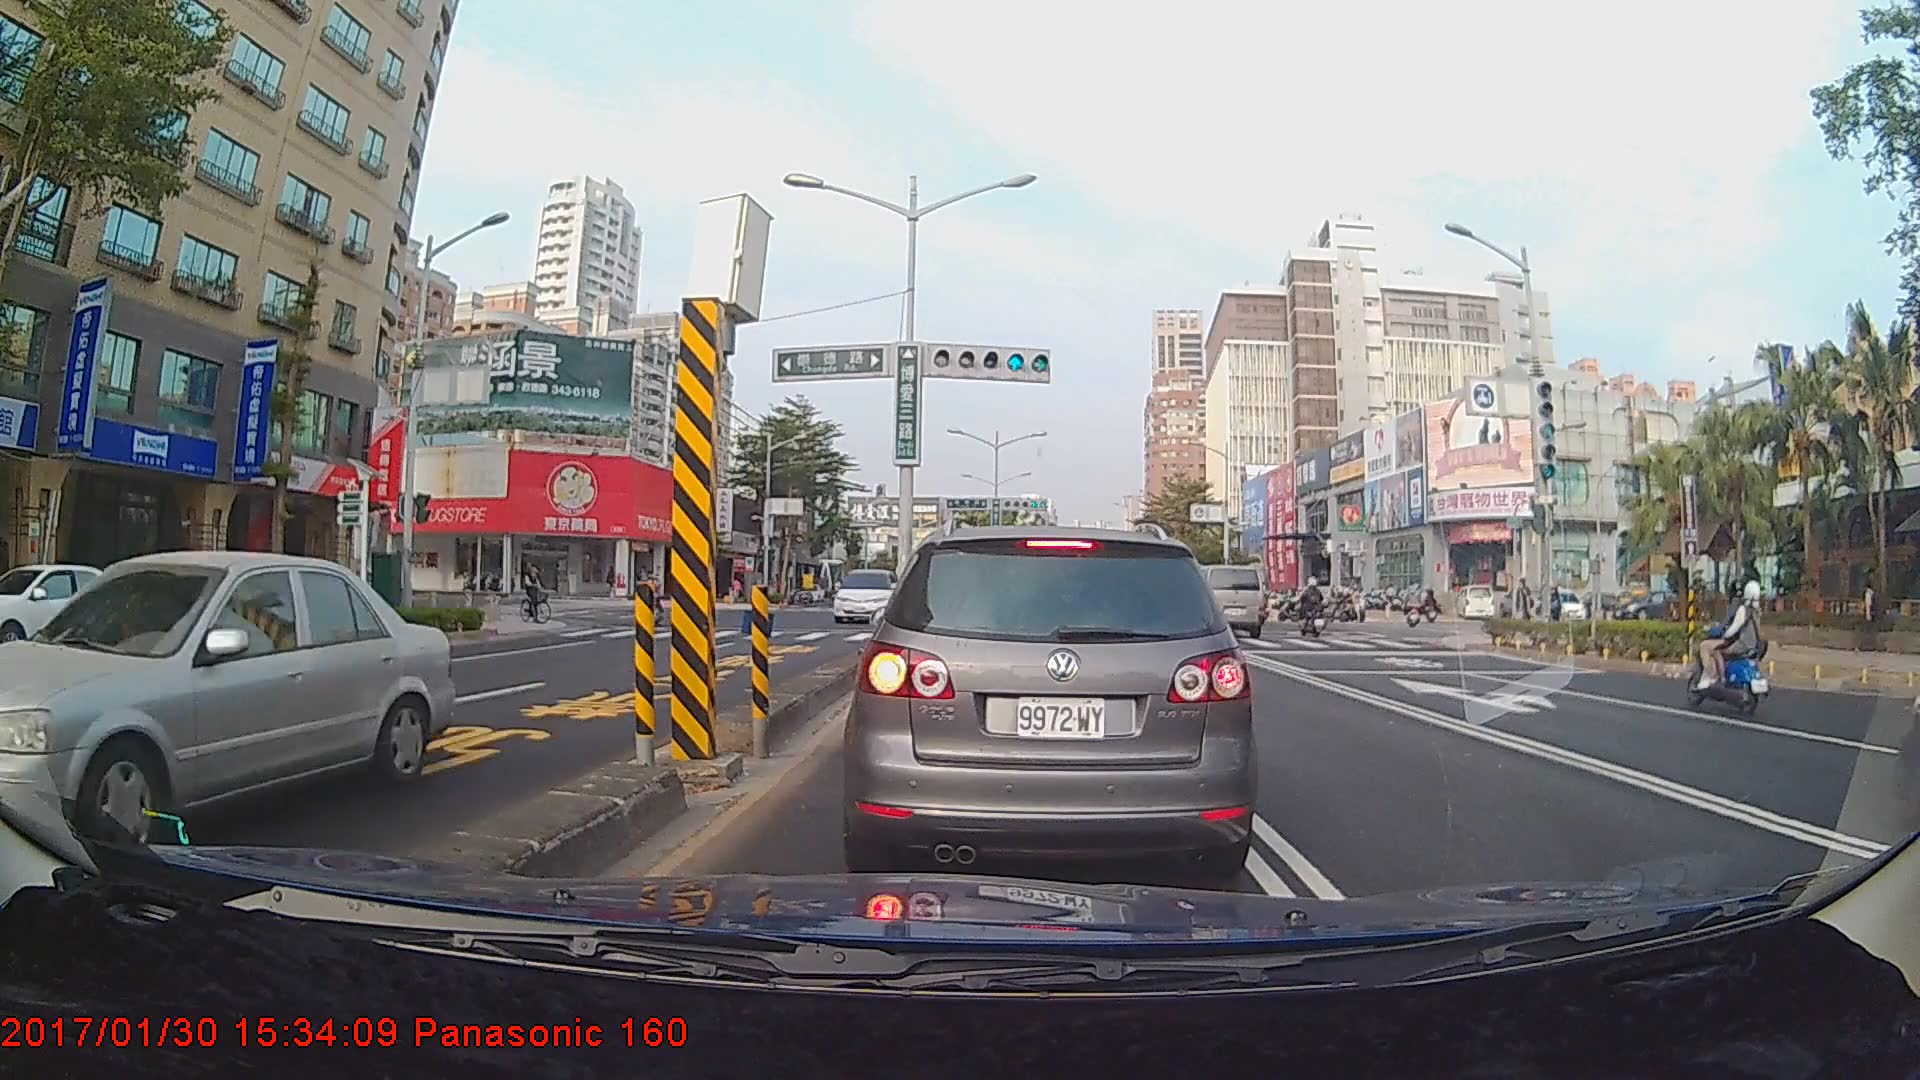pedestrian: (1855, 580, 1882, 654)
rider: (1677, 570, 1782, 727), (518, 559, 561, 629), (1297, 580, 1335, 640), (1399, 582, 1423, 634)
vehicle: (853, 520, 1254, 884), (0, 549, 454, 865), (0, 561, 160, 671), (1162, 561, 1267, 639), (831, 566, 905, 623)
